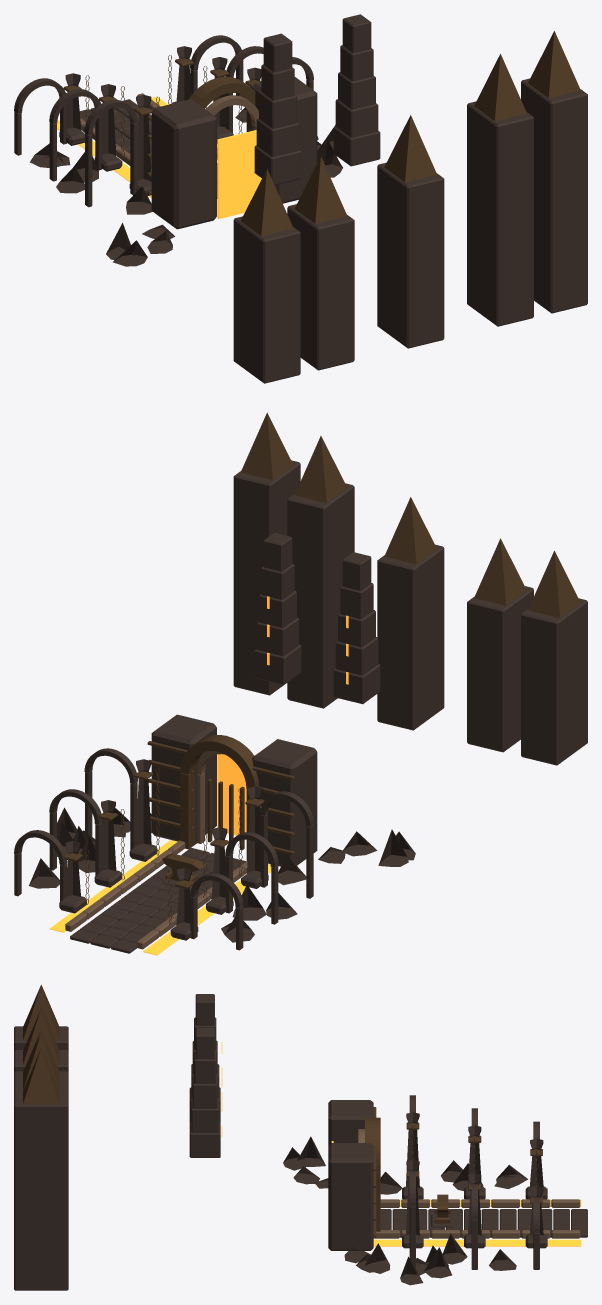
Rendered from ForgeCourtV18_15.fbx.
3 views of the same model, one above another, from view 1: azimuth 30°, elevation 25°; view 2: azimuth 150°, elevation 25°; view 3: azimuth 270°, elevation 25° (orthographic). The views are drawn at different scales.
Visible parts, largest first — view 1: ForgeCourtV18_15; view 2: ForgeCourtV18_15; view 3: ForgeCourtV18_15.
Boxes of the visible parts, <box> form: ForgeCourtV18_15: <box>14,14,587,383</box>; ForgeCourtV18_15: <box>14,412,587,955</box>; ForgeCourtV18_15: <box>14,984,587,1290</box>.
Size of the model in its own units: 18.1 by 14.47 by 31.51.
